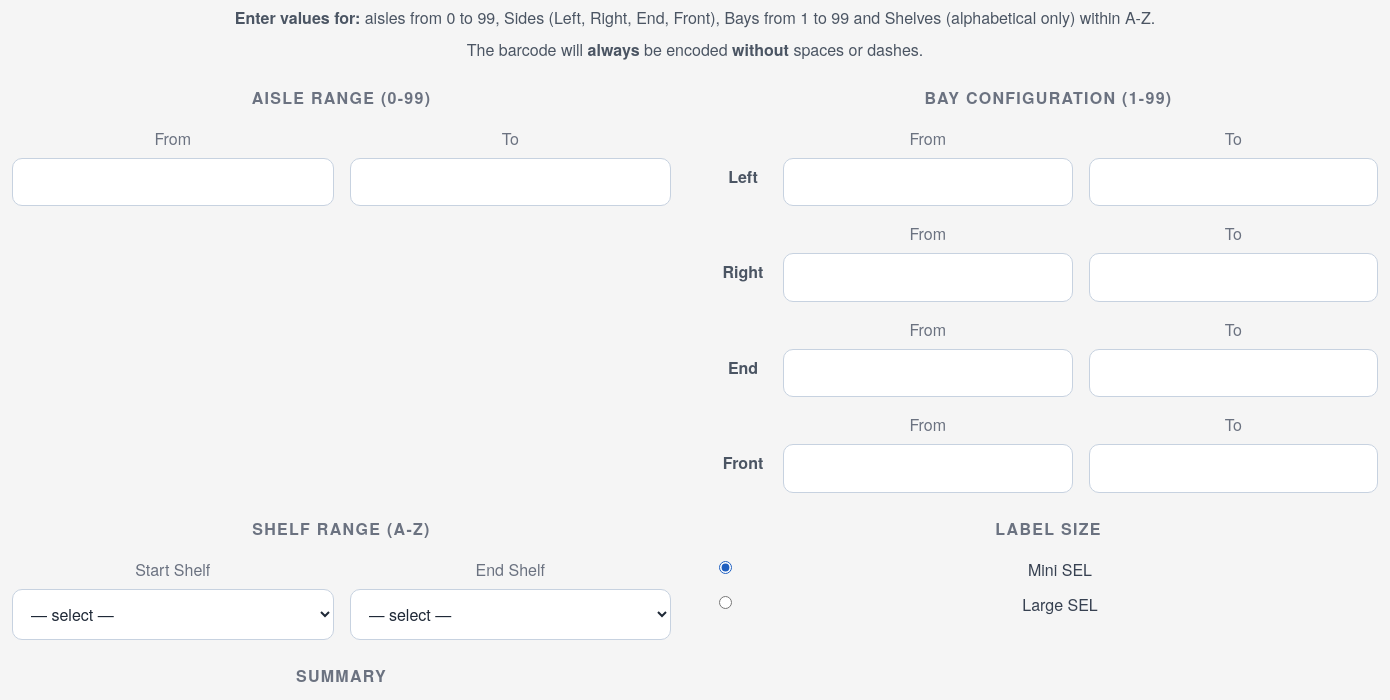
Test: AisleLabelForm › shows aisle range validation when aisle value is out of bounds
In the field labelled "From" below "Aisle Range (0-99)": (173, 182) [12,158,334,206], type "1"
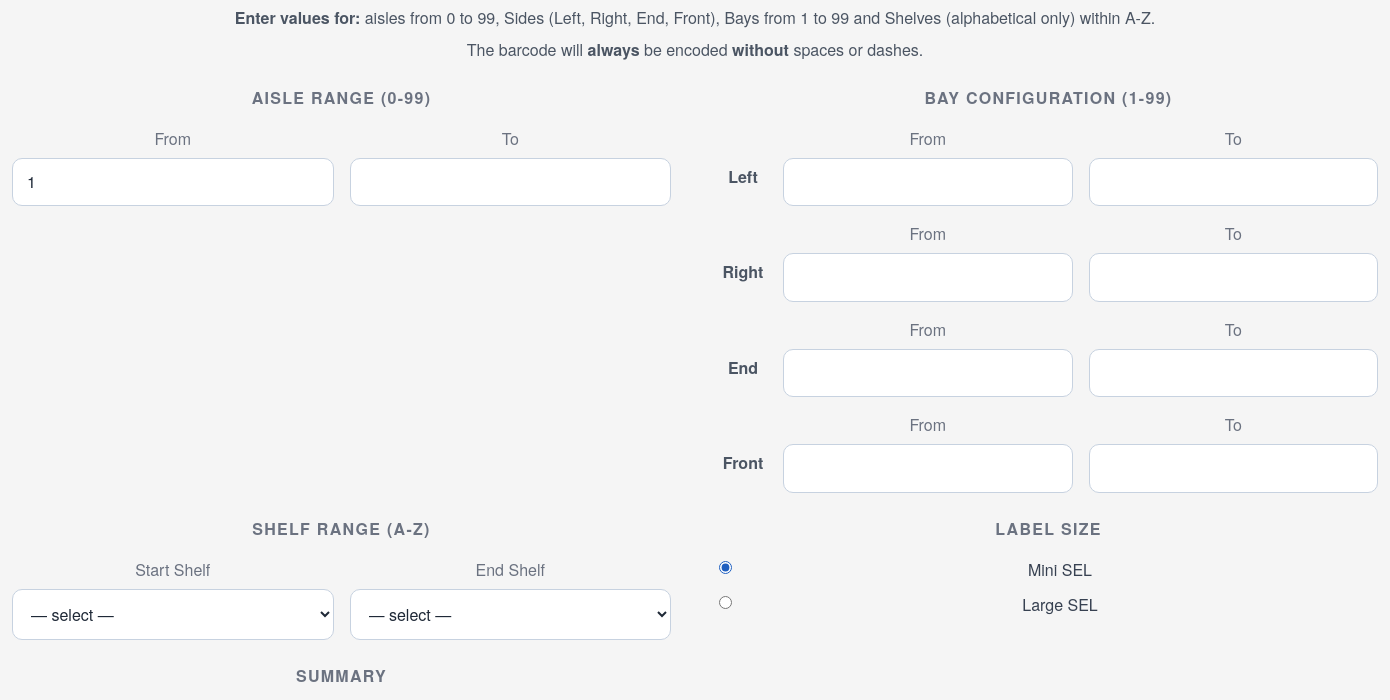
In the field labelled "To" below "Aisle Range (0-99)": (510, 182) [350,158,671,206], type "100"
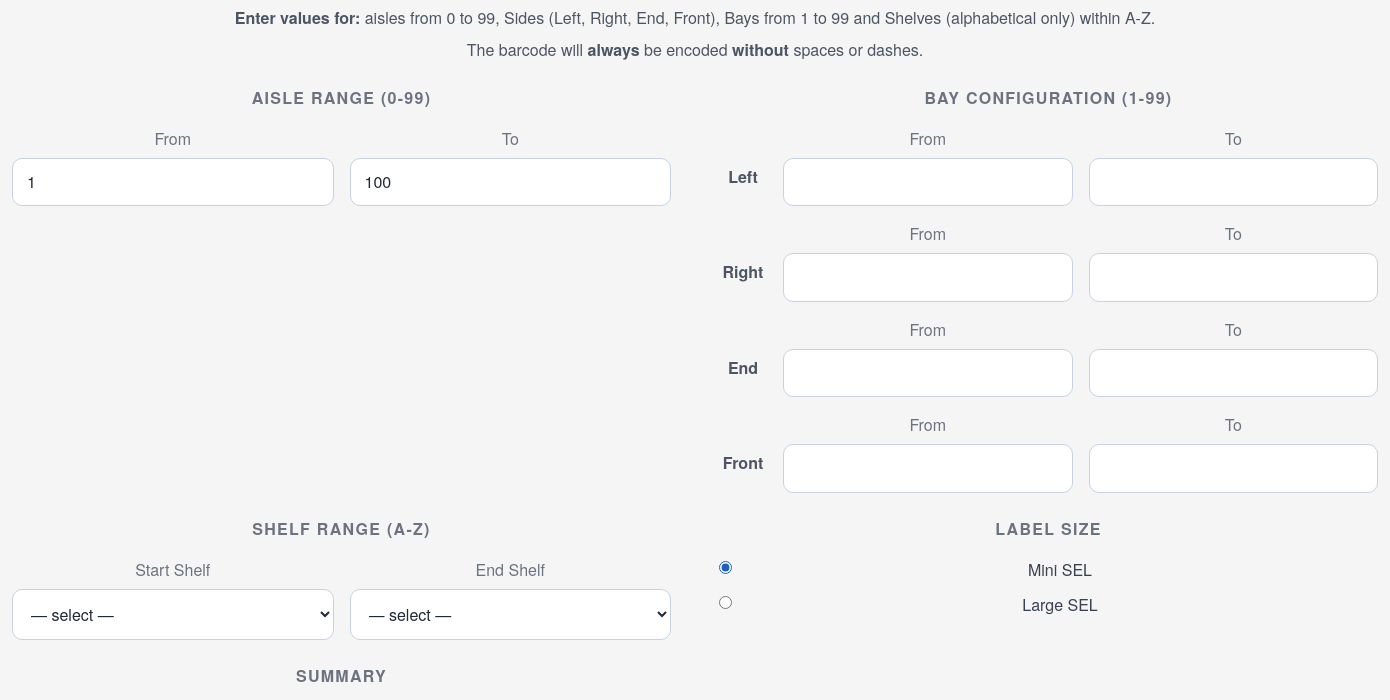
Select "A" in the dropdown labelled "End Shelf": (510, 614) [350,589,671,640]
(page scrolled)
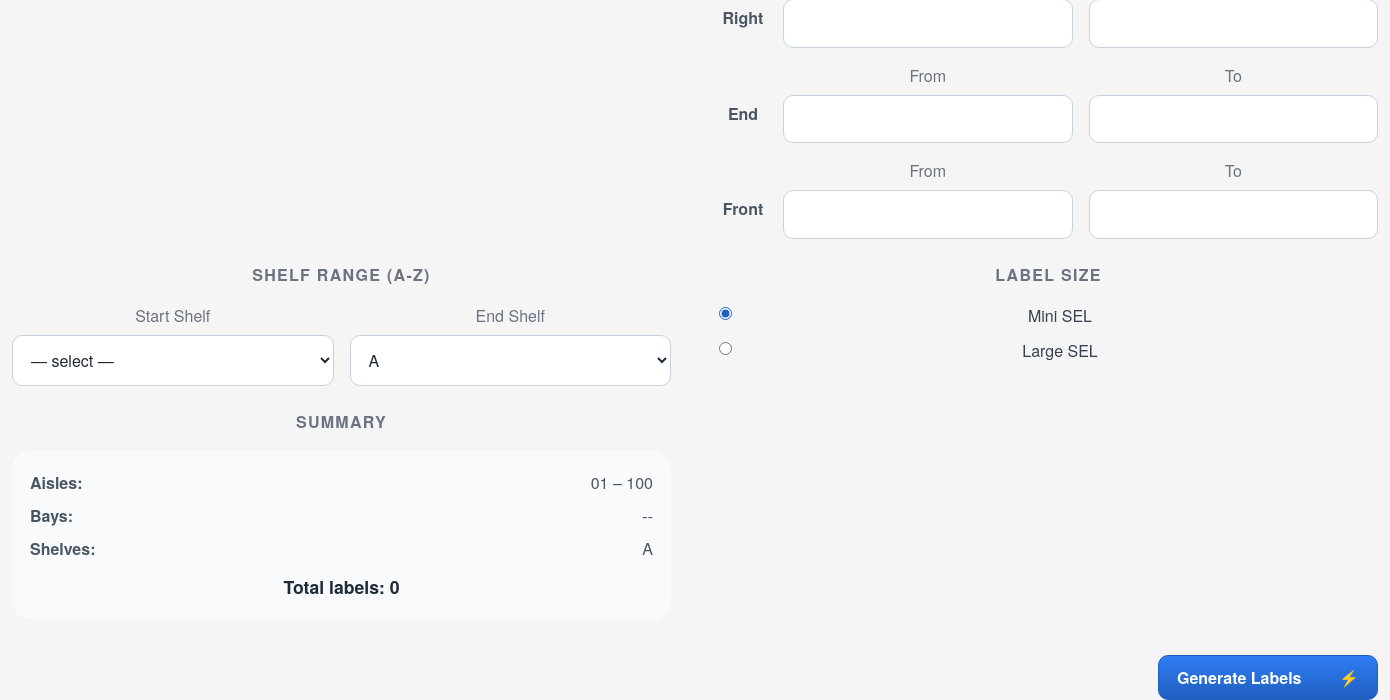
Click the button "Generate Labels ⚡": click(1268, 678) [1158,655,1378,699]
(page scrolled)
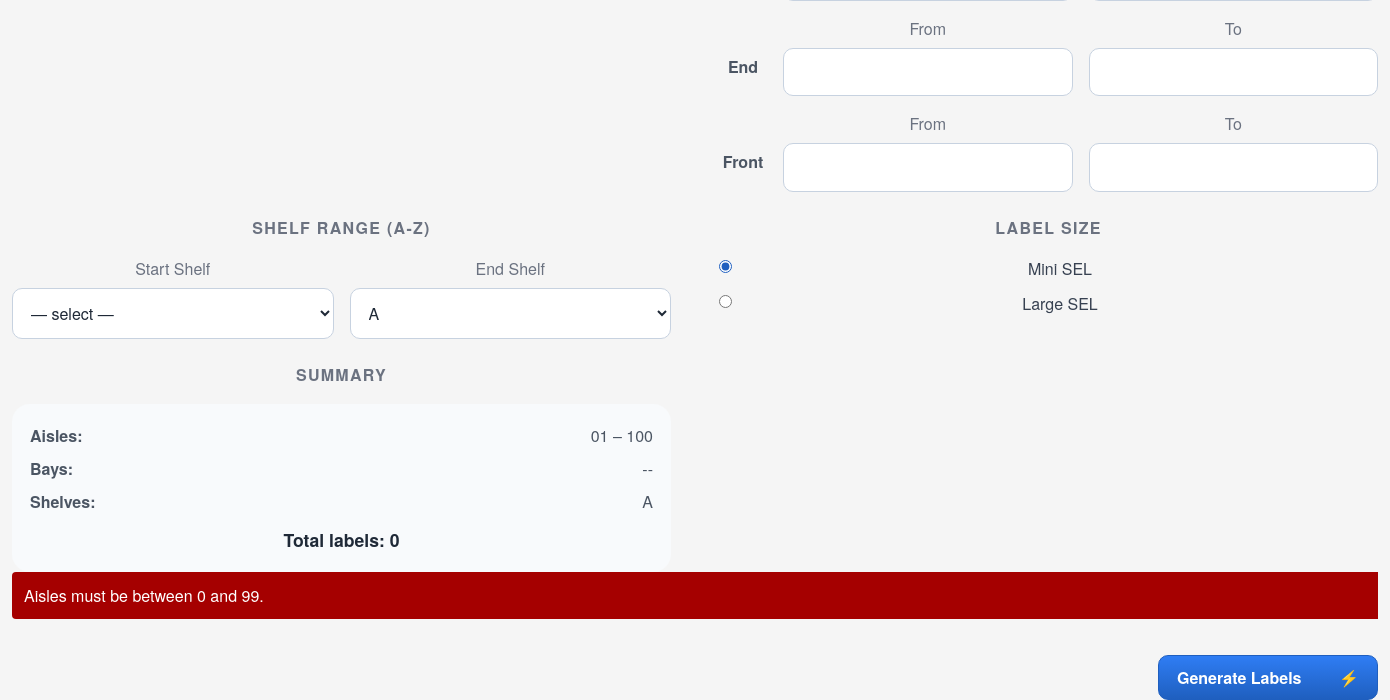
Now the message shows "0", box [24,584,264,607]
Now the message shows "99", box [24,584,264,607]
